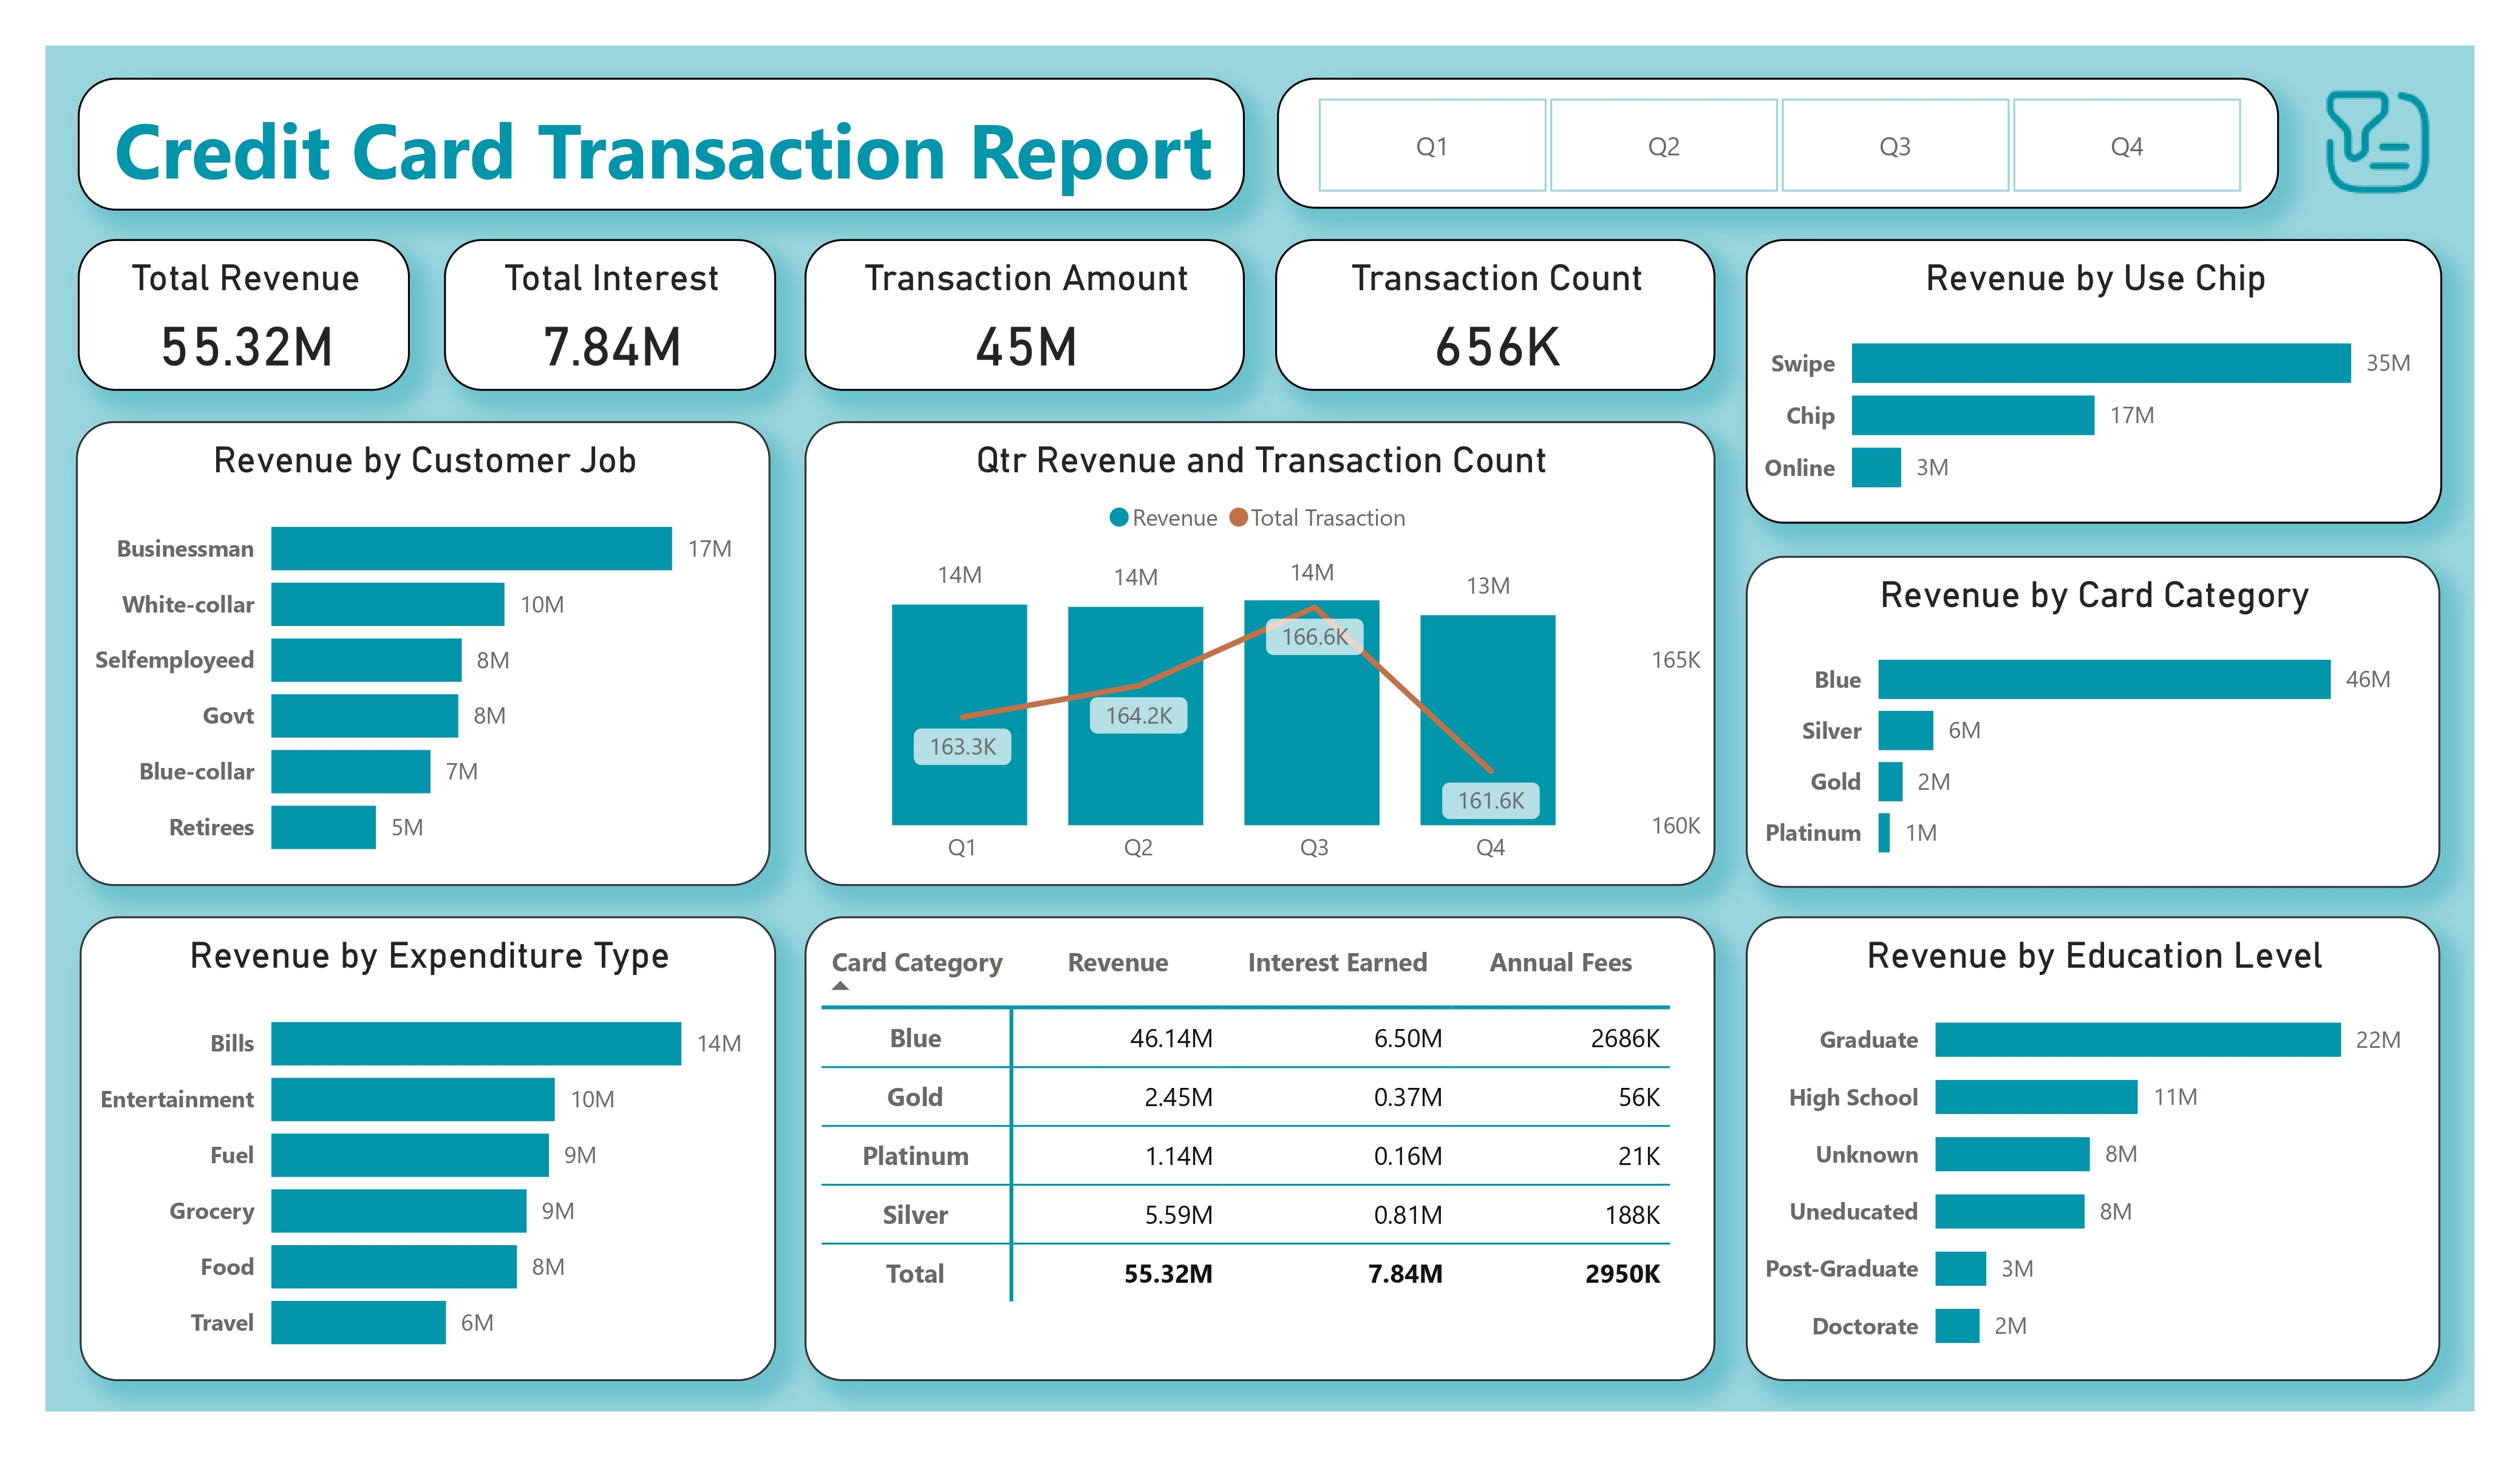

The dashboard page shown, as its layout file describes it:
{"tool":"powerbi","page":{"name":"Page 1","canvas":[1280,720],"ordinal":0},"visuals":[{"type":"lineClusteredColumnComboChart","title":"Qtr Revenue and Transaction Count","fields":{"Category":["cc_detail.Qtr"],"Y":["Sum(cc_detail.Revenue)"],"Y2":["Sum(cc_detail.Total_Trans_Ct)"]},"box":[400,198,480,245],"z":0},{"type":"clusteredBarChart","title":"Revenue by Use Chip","fields":{"Y":["Sum(cc_detail.Revenue)"],"Category":["cc_detail.Use_Chip"]},"box":[896,102,366.7,150],"z":1000},{"type":"clusteredBarChart","title":"Revenue by Expenditure Type","fields":{"Y":["Sum(cc_detail.Revenue)"],"Category":["cc_detail.Exp_Type"]},"box":[18.3,459,366.7,245],"z":2000},{"type":"clusteredBarChart","title":"Revenue by Education Level","fields":{"Y":["Sum(cc_detail.Revenue)"],"Category":["cust_detail.Education_Level"]},"box":[896,459,366,245],"z":3000},{"type":"clusteredBarChart","title":"Revenue by Card Category","fields":{"Y":["Sum(cc_detail.Revenue)"],"Category":["cc_detail.Card_Category"]},"box":[896,268.8,366,175.1],"z":4000},{"type":"card","title":"Total Revenue","fields":{"Values":["Sum(cc_detail.Revenue)"]},"box":[16.7,102,175,80],"z":5000},{"type":"card","title":"Total Interest","fields":{"Values":["Sum(cc_detail.Interest_Earned)"]},"box":[210,102,175,80],"z":6000},{"type":"card","title":"Transaction Amount","fields":{"Values":["Sum(cc_detail.Total_Trans_Amt)"]},"box":[400,102,231.7,80],"z":7000},{"type":"card","title":"Transaction Count","fields":{"Values":["Sum(cc_detail.Total_Trans_Ct)"]},"box":[648.3,102,231.7,80],"z":8000},{"type":"pivotTable","fields":{"Rows":["cc_detail.Card_Category"],"Values":["Sum(cc_detail.Revenue)","Sum(cc_detail.Interest_Earned)","Sum(cc_detail.Annual_Fees)"]},"box":[400,459,480,245],"z":9000},{"type":"clusteredBarChart","title":"Revenue by Customer Job","fields":{"Y":["Sum(cc_detail.Revenue)"],"Category":["cust_detail.Customer_Job"]},"box":[16,198,366,245],"z":10000},{"type":"shape","box":[16.7,16.7,615,70],"z":11000},{"type":"slicer","fields":{"Values":["cc_detail.Qtr"]},"box":[648.6,17.2,528.3,68.8],"z":12000},{"type":"image","title":"Filter-open-btn","box":[1194,16,70,70.3],"z":14000}]}

Visuals, with their boxes in screenshot pixels (x1, y1, x2, y2):
"Qtr Revenue and Transaction Count" lineClusteredColumnComboChart: {"left": 808, "top": 416, "right": 1707, "bottom": 875}
"Revenue by Use Chip" clusteredBarChart: {"left": 1737, "top": 237, "right": 2423, "bottom": 518}
"Revenue by Expenditure Type" clusteredBarChart: {"left": 94, "top": 905, "right": 780, "bottom": 1364}
"Revenue by Education Level" clusteredBarChart: {"left": 1737, "top": 905, "right": 2422, "bottom": 1364}
"Revenue by Card Category" clusteredBarChart: {"left": 1737, "top": 549, "right": 2422, "bottom": 877}
"Total Revenue" card: {"left": 90, "top": 237, "right": 418, "bottom": 387}
"Total Interest" card: {"left": 452, "top": 237, "right": 780, "bottom": 387}
"Transaction Amount" card: {"left": 808, "top": 237, "right": 1242, "bottom": 387}
"Transaction Count" card: {"left": 1273, "top": 237, "right": 1707, "bottom": 387}
pivotTable - cc_detail.Card_Category x Sum(cc_detail.Revenue): {"left": 808, "top": 905, "right": 1707, "bottom": 1364}
"Revenue by Customer Job" clusteredBarChart: {"left": 89, "top": 416, "right": 774, "bottom": 875}
shape: {"left": 90, "top": 77, "right": 1242, "bottom": 208}
slicer - cc_detail.Qtr: {"left": 1274, "top": 78, "right": 2263, "bottom": 207}
"Filter-open-btn" image: {"left": 2295, "top": 76, "right": 2426, "bottom": 208}
